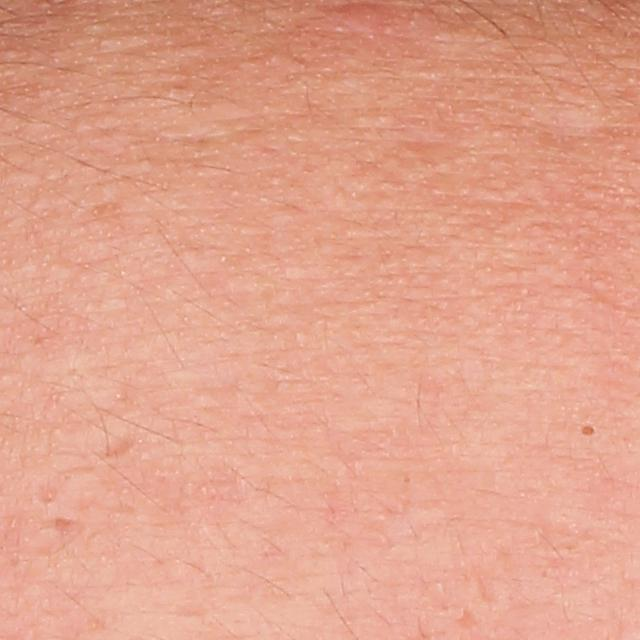atrophic_scar: (458, 607, 481, 630), (54, 516, 75, 533)
comedo: (577, 418, 604, 443)
